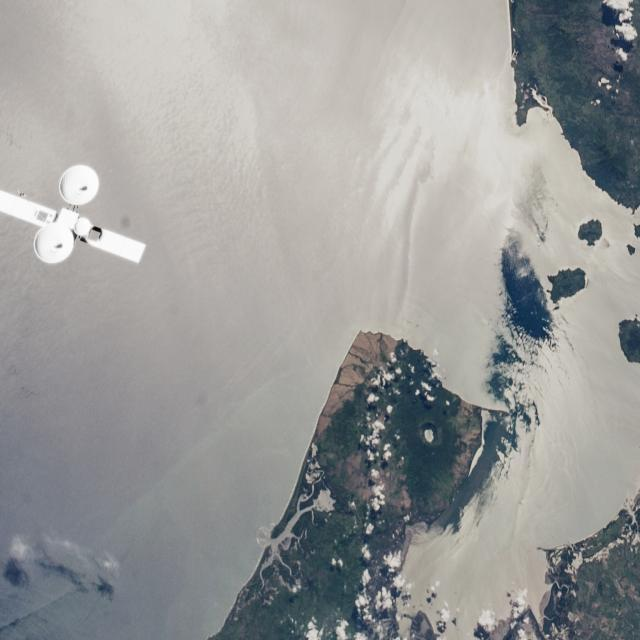satellite: (0, 149, 160, 271)
